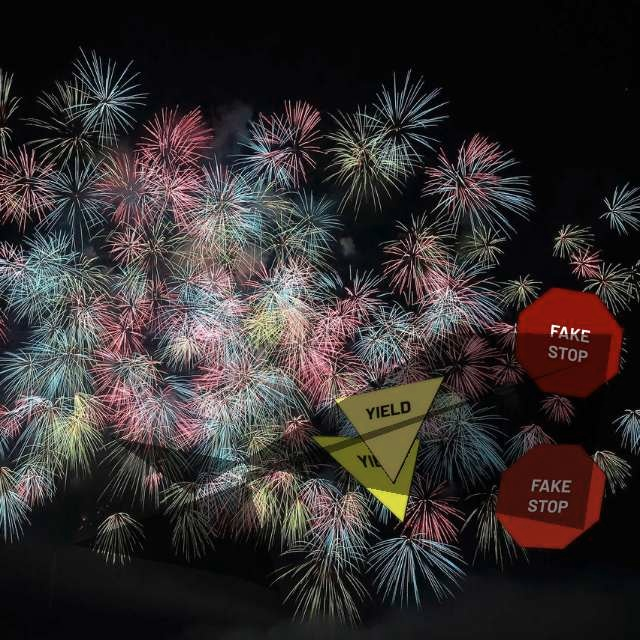FAKE_STOP: (514, 286, 624, 399), (494, 443, 607, 550)
YIELD: (333, 375, 446, 484), (308, 435, 421, 524)
